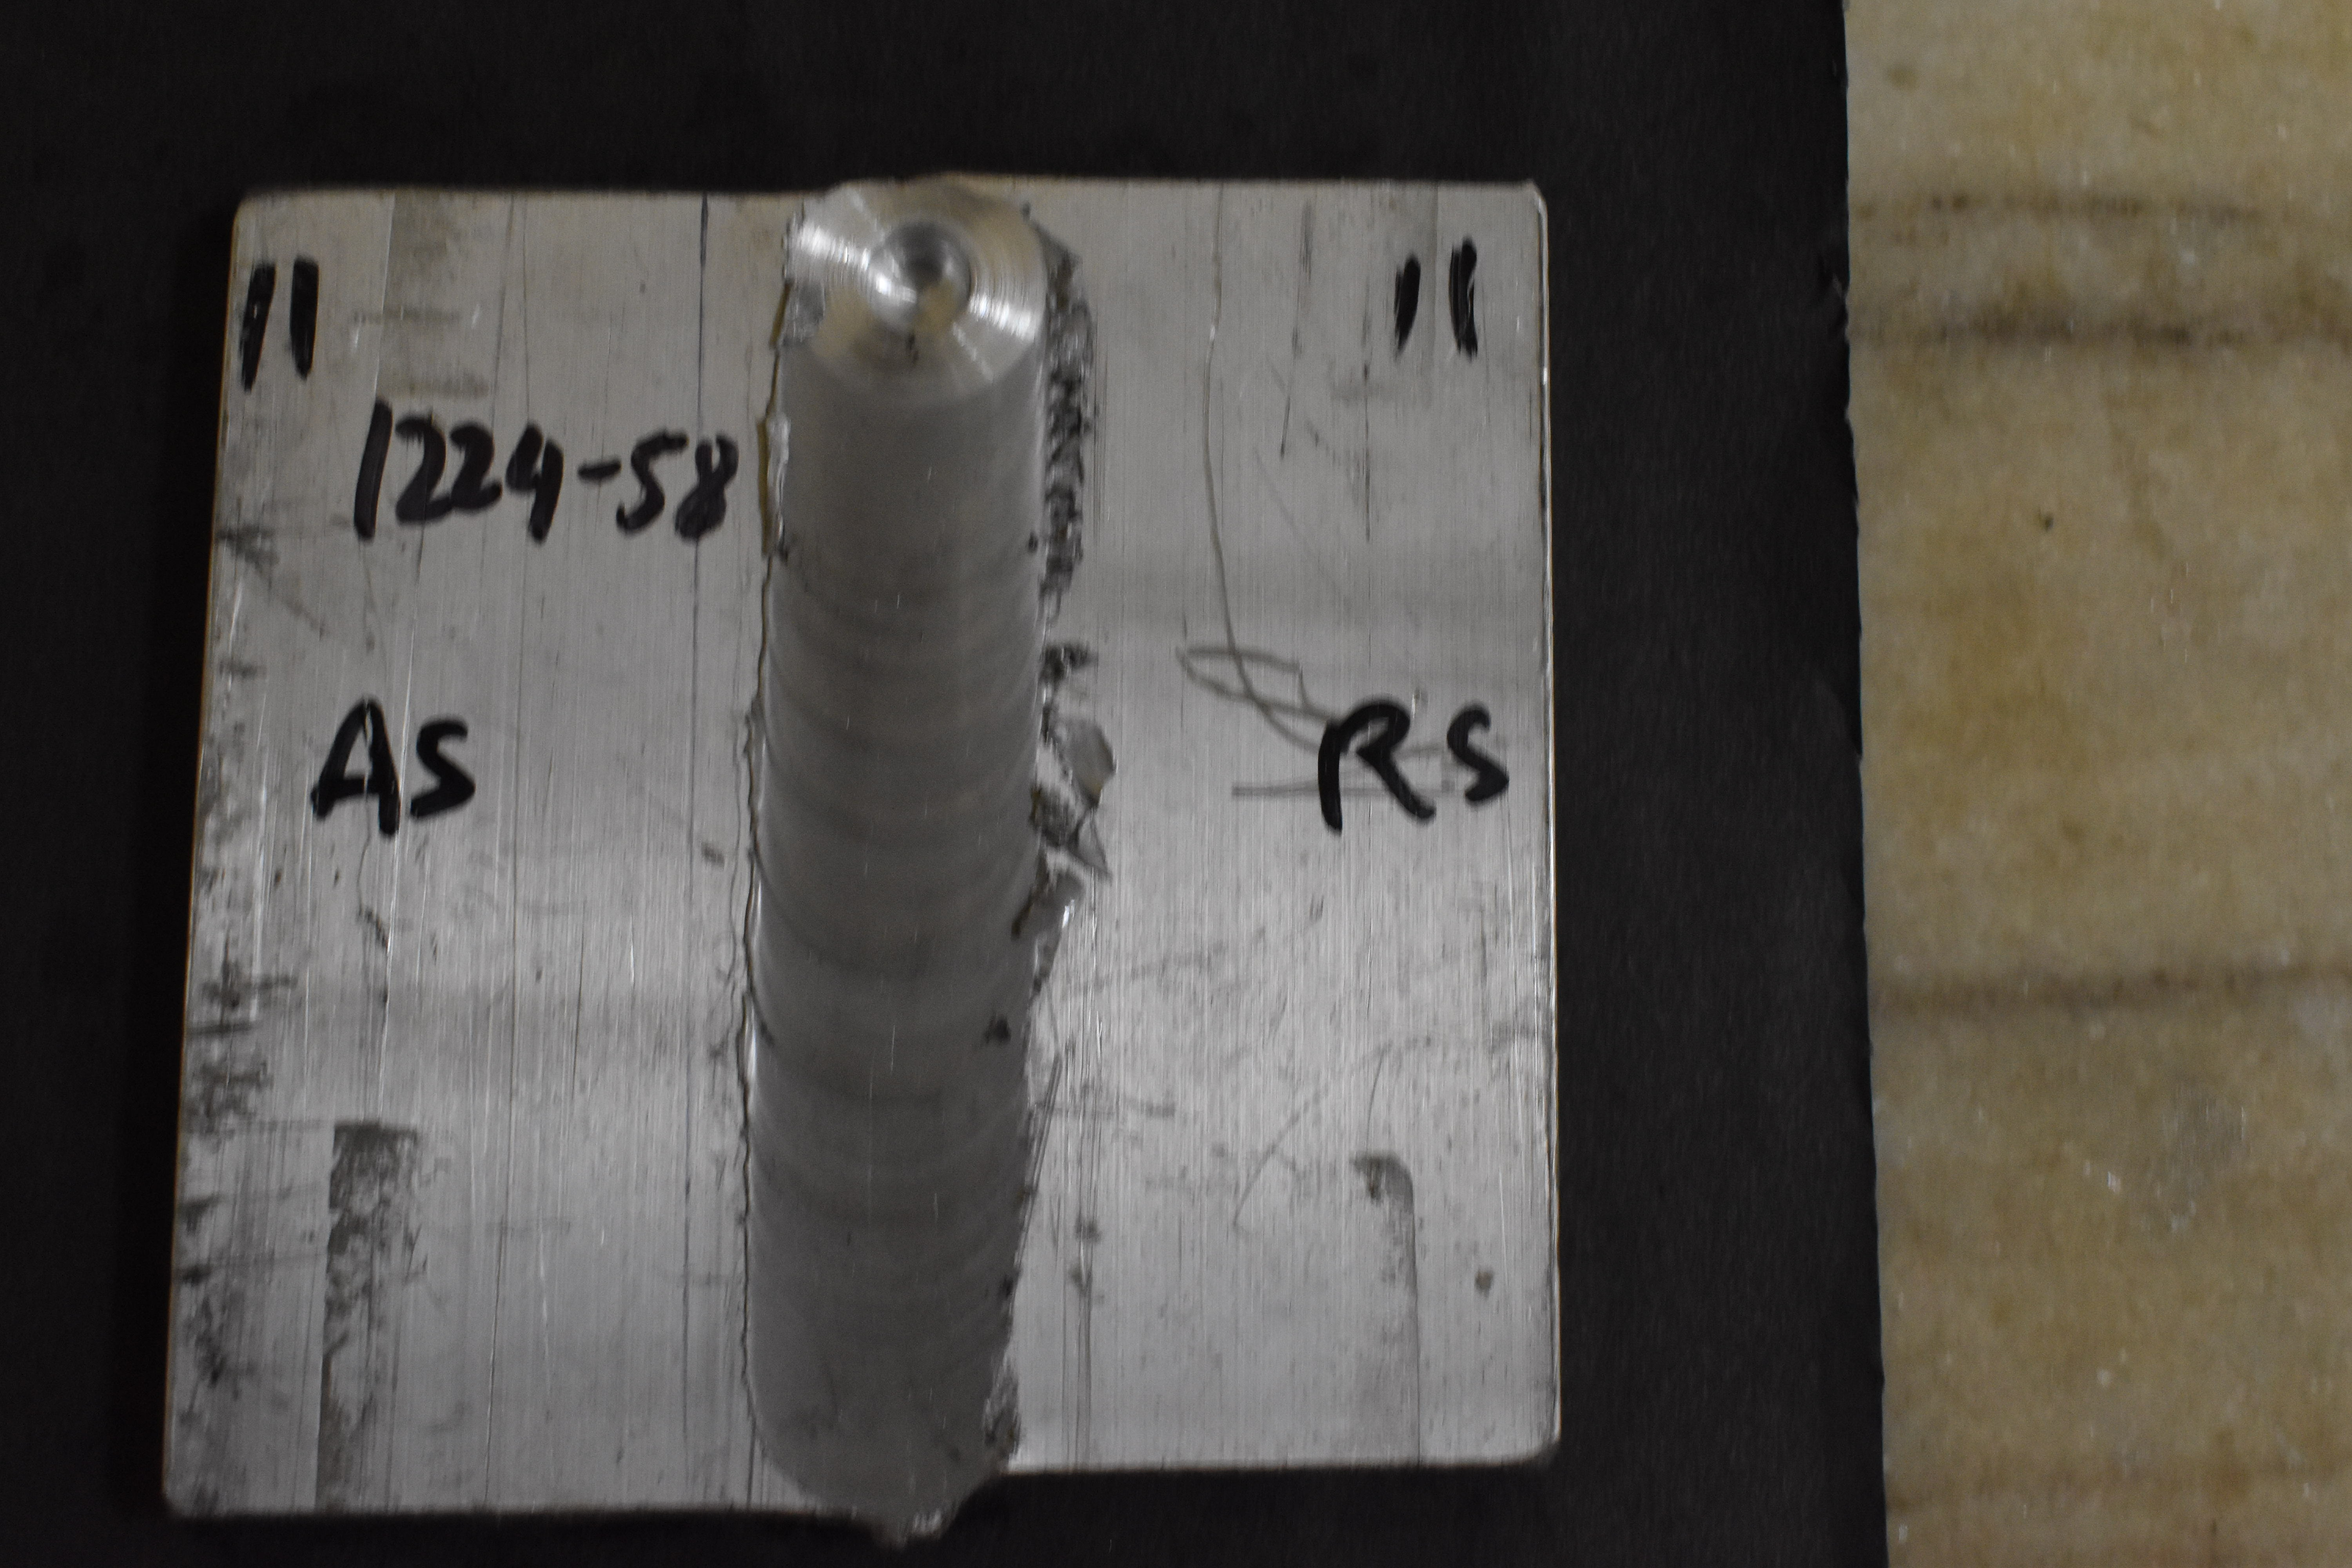flash: (1017, 691, 1116, 978), (1041, 240, 1094, 618), (833, 1488, 982, 1556)
grooves: (798, 467, 990, 1255)
keyhole: (865, 228, 978, 329)
